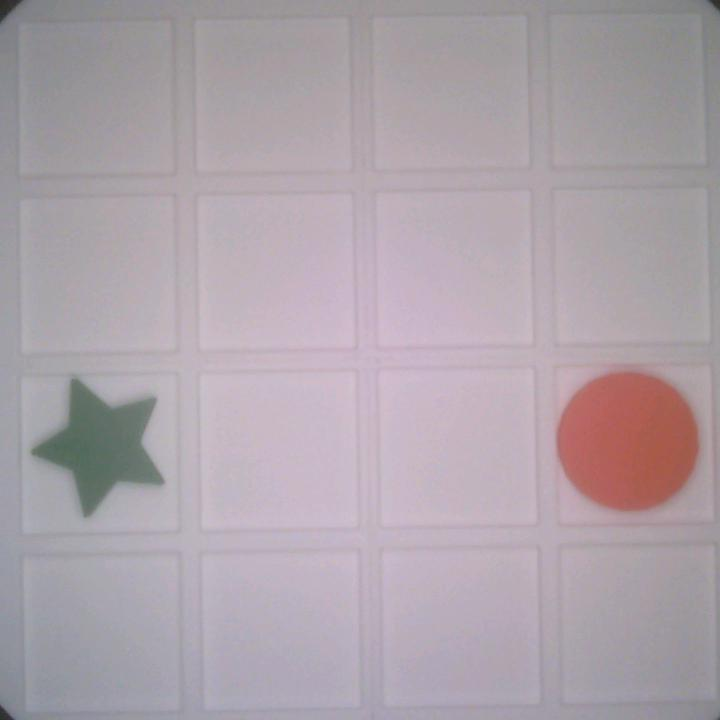Green star: (27, 374, 169, 519)
Orange circle: (553, 366, 700, 514)
